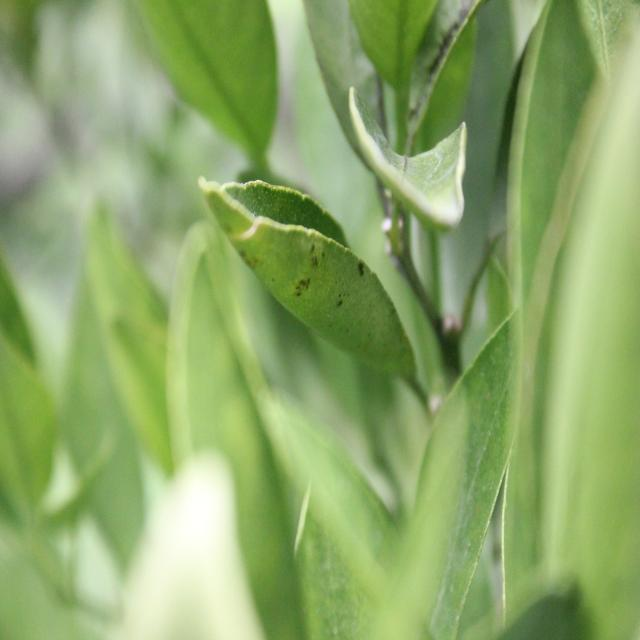blackspot: (216, 176, 400, 380)
